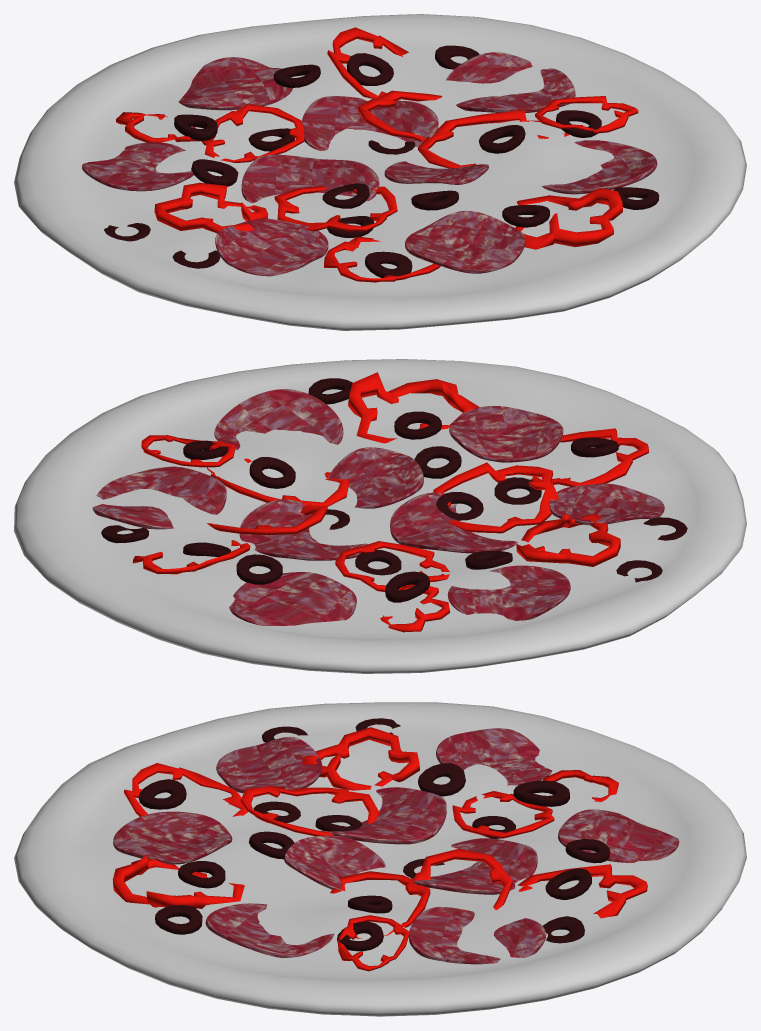
Rendered from PIZZA.fbx.
The picture shows the model from 3 angles, top to bottom: view 1: azimuth 30°, elevation 25°; view 2: azimuth 150°, elevation 25°; view 3: azimuth 270°, elevation 25°; orthographic projection.
Parts seen in each view (by area): view 1: pizza, meat1, meat6, meat7, meat8, meat4, meat3, meat5, piman.002, meat2, piman, piman.005 (+22 smaller); view 2: pizza, meat4, meat1, meat3, meat2, meat5, meat9, meat7, meat8, meat6, piman.002, piman.005 (+23 smaller); view 3: pizza, meat1, meat3, meat6, meat5, meat7, meat4, meat8, meat9, meat2, piman, piman.002 (+21 smaller).
Part boxes in pixels (x1,y1,x2,y2): pizza: (14,14,746,330); meat1: (405,210,524,273); meat6: (215,218,328,276); meat7: (241,154,379,203); meat8: (301,96,438,150); meat4: (178,57,292,110); meat3: (446,52,575,112); meat5: (82,142,193,191); piman.002: (515,188,622,249); meat2: (542,140,657,194); piman: (154,182,268,233); piman.005: (274,186,397,231); pizza: (14,359,746,673); meat4: (229,572,356,625); meat1: (449,406,563,462); meat3: (92,466,226,529); meat2: (214,389,343,449); meat5: (447,565,570,620); meat9: (328,447,423,508); meat7: (390,492,517,553); meat8: (239,499,367,560); meat6: (549,483,664,525); piman.002: (348,372,479,443); piman.005: (433,462,558,533); pizza: (14,702,746,1016); meat1: (113,811,232,864); meat3: (409,907,546,964); meat6: (216,736,322,794); meat5: (436,728,552,785); meat7: (320,787,446,844); meat4: (558,809,679,862); meat8: (411,838,537,894); meat9: (284,835,385,890); meat2: (205,903,334,957); piman: (302,727,419,790); piman.002: (112,854,244,908).
Bounding box in the file's own units: 941 × 69.9 × 948.
